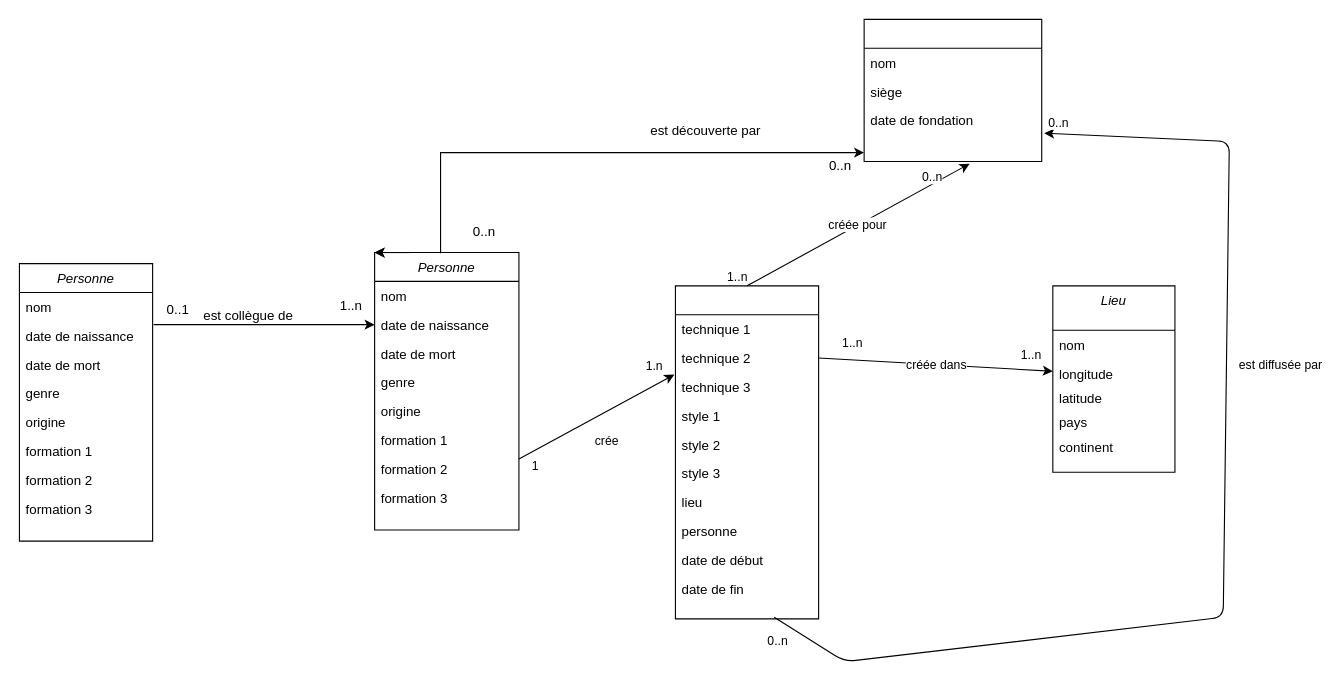
Some shapes in this 1342 by 690 pixel diagram are drawn without their labels. Here are the shapes that lost their labels. From the top down, the box of each, then its label:
(863, 18, 1042, 162): Institution
(674, 285, 819, 619): Création
